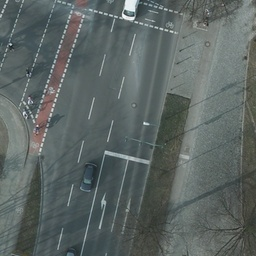car: (79, 162, 97, 192), (122, 1, 139, 21)
